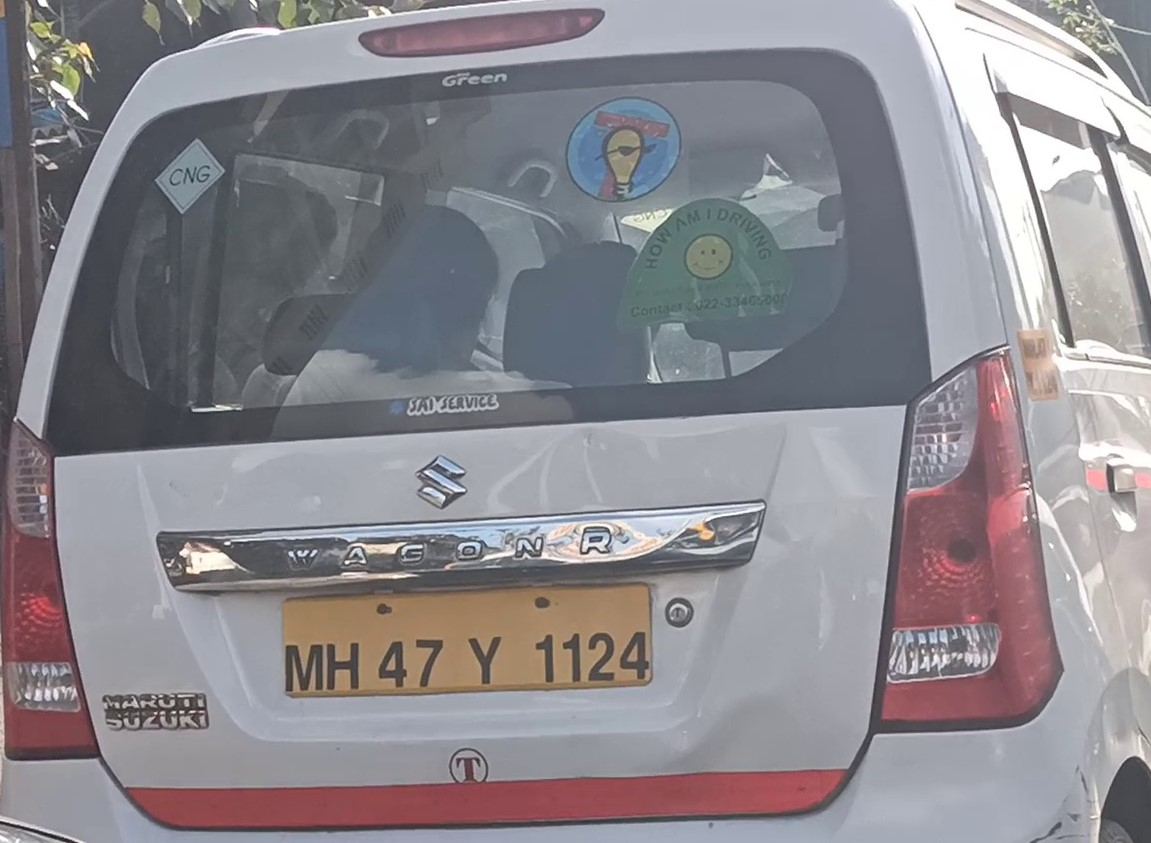MH47Y1124: (281, 583, 651, 685)
